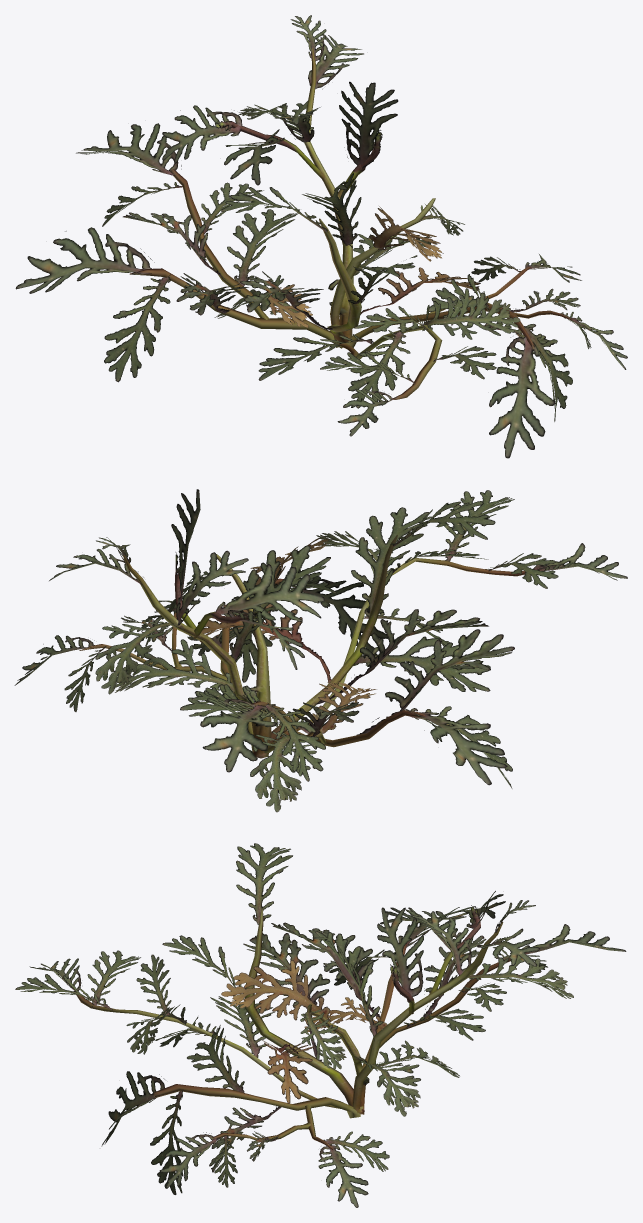
Rendered from OrangeFlower_E.fbx.
3 views of the same model, one above another, from view 1: azimuth 30°, elevation 25°; view 2: azimuth 150°, elevation 25°; view 3: azimuth 270°, elevation 25° (orthographic). The views are drawn at different scales.
Parts seen in each view (by area): view 1: OrangeFlower_E; view 2: OrangeFlower_E; view 3: OrangeFlower_E.
Boxes of the visible parts, <box> form: OrangeFlower_E: <box>15,15,627,458</box>; OrangeFlower_E: <box>14,489,627,812</box>; OrangeFlower_E: <box>15,843,626,1207</box>.
Bounding box in the file's own units: 0.2969 × 0.16 × 0.3386.
1 material, 1 textured.
